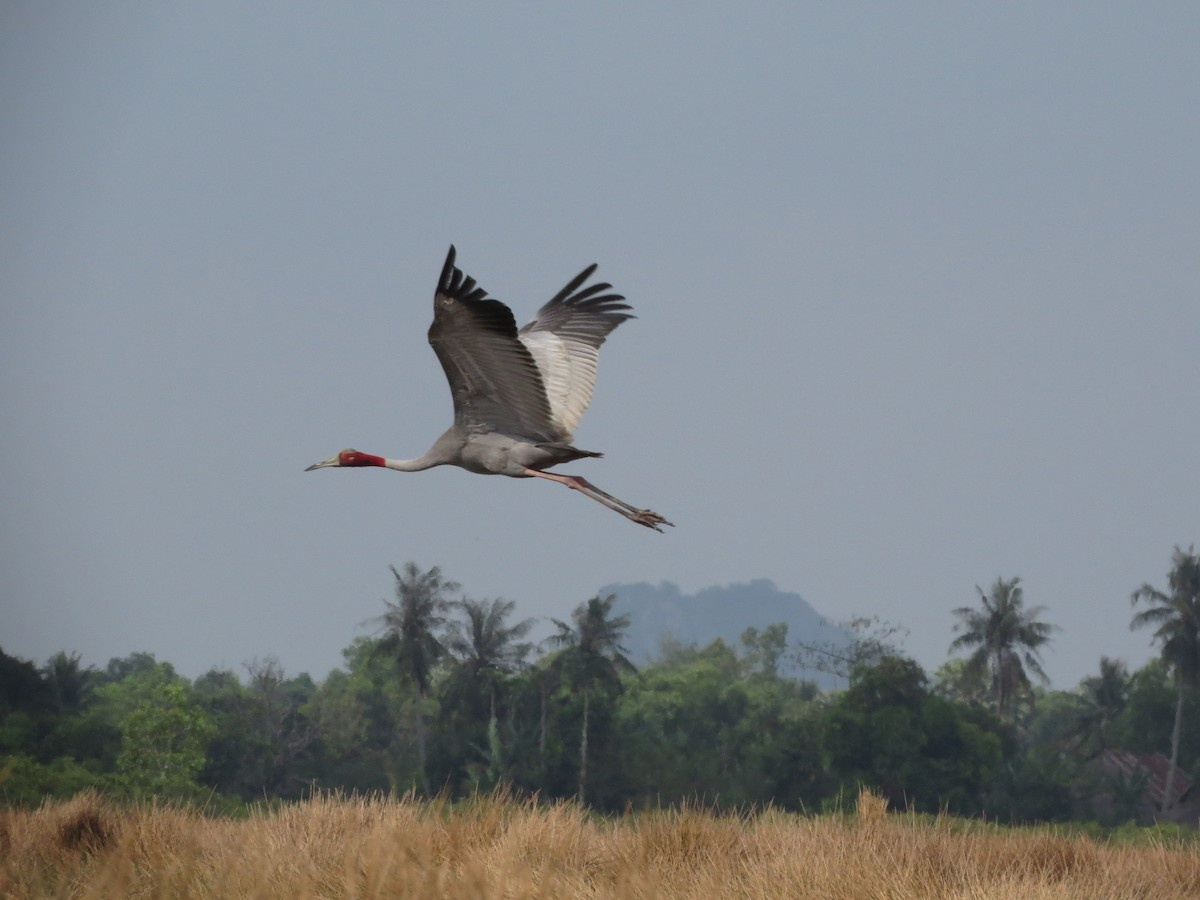crane: (297, 236, 692, 554)
